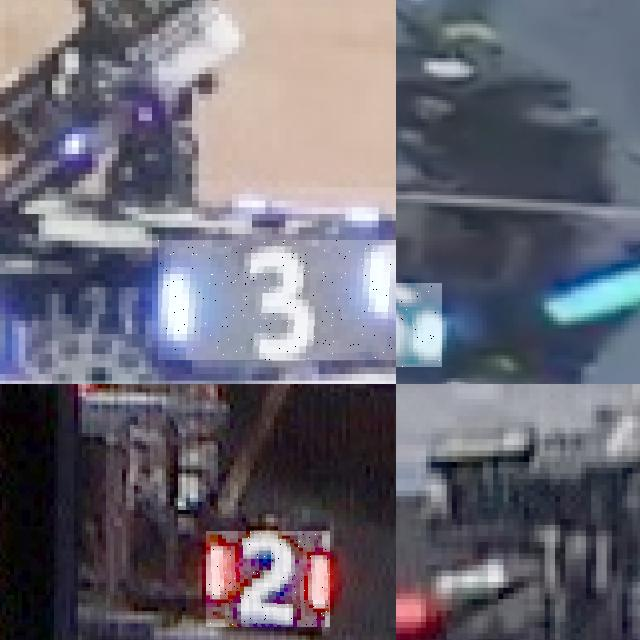B3: (158, 240, 396, 360)
B5: (396, 283, 442, 367)
R2: (206, 531, 330, 627)
